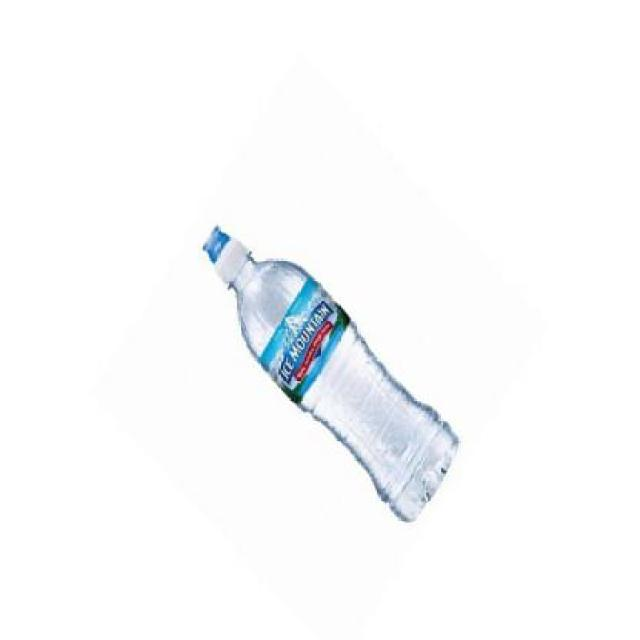Plastic: (203, 224, 461, 523)
